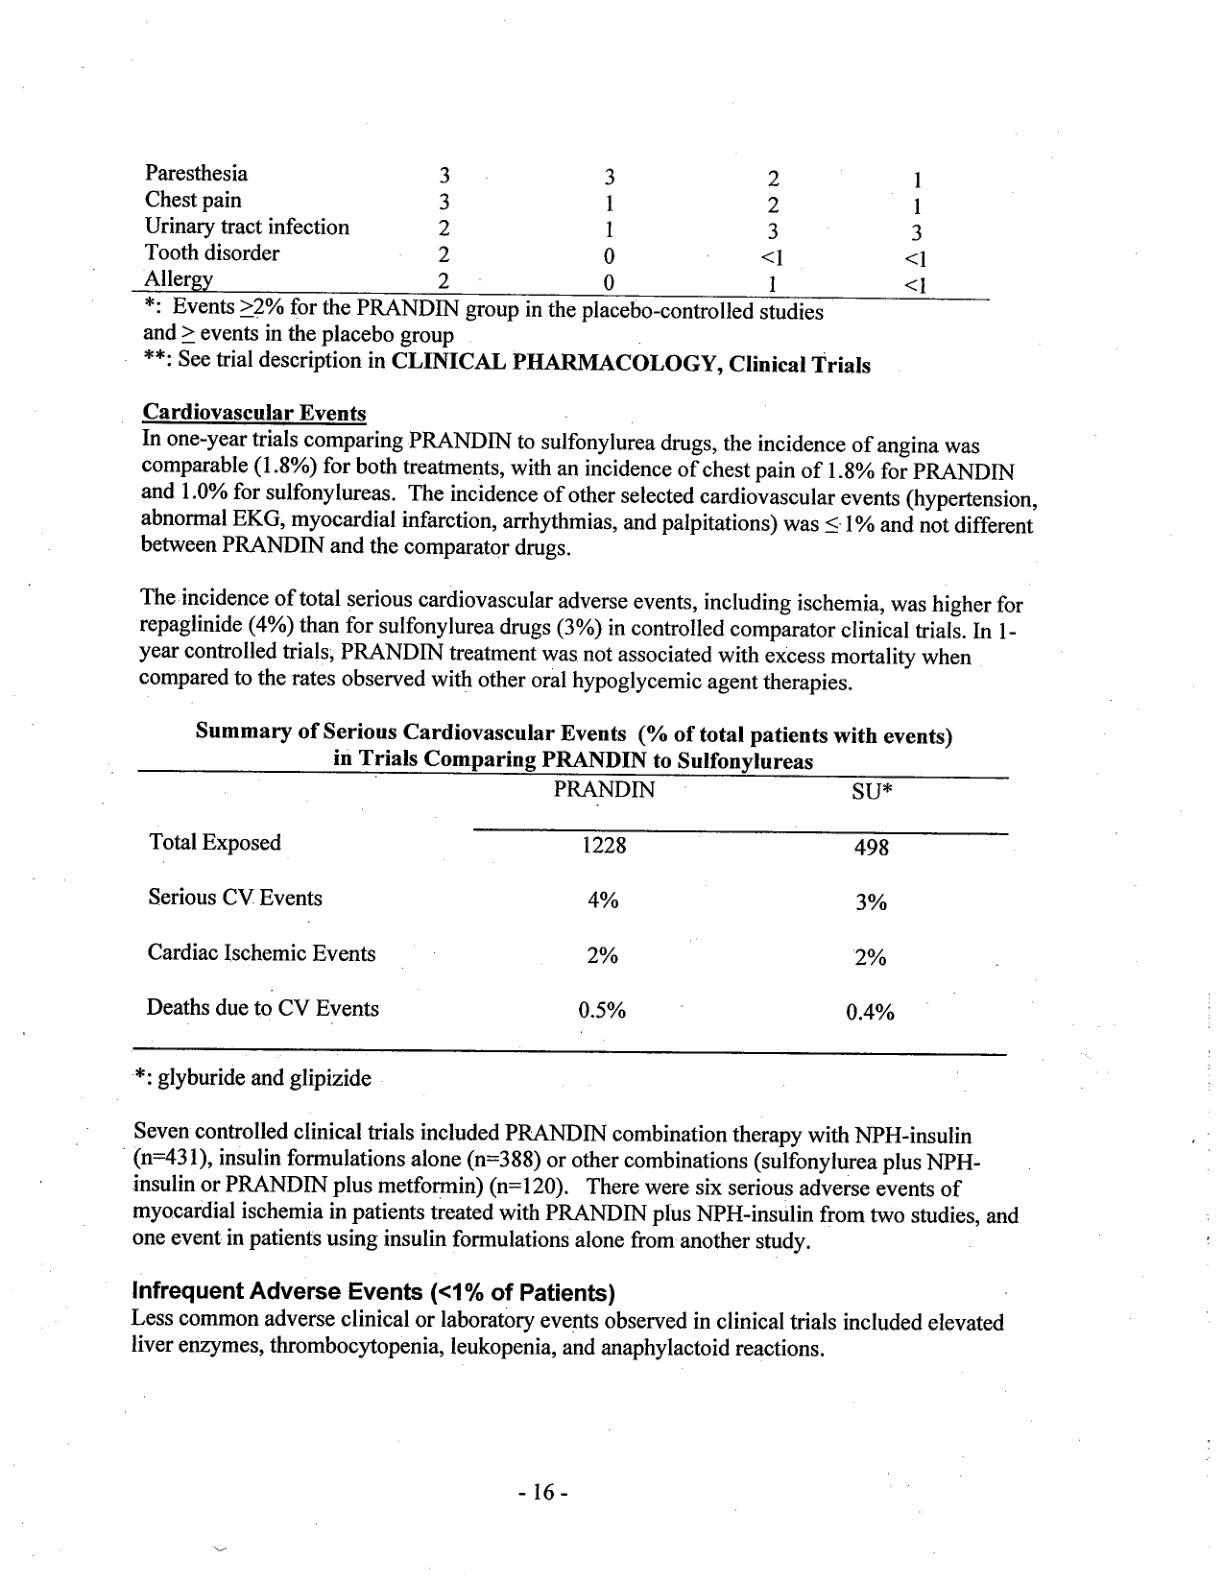partial_lined: (138, 768, 1014, 1059), (129, 156, 989, 300)
